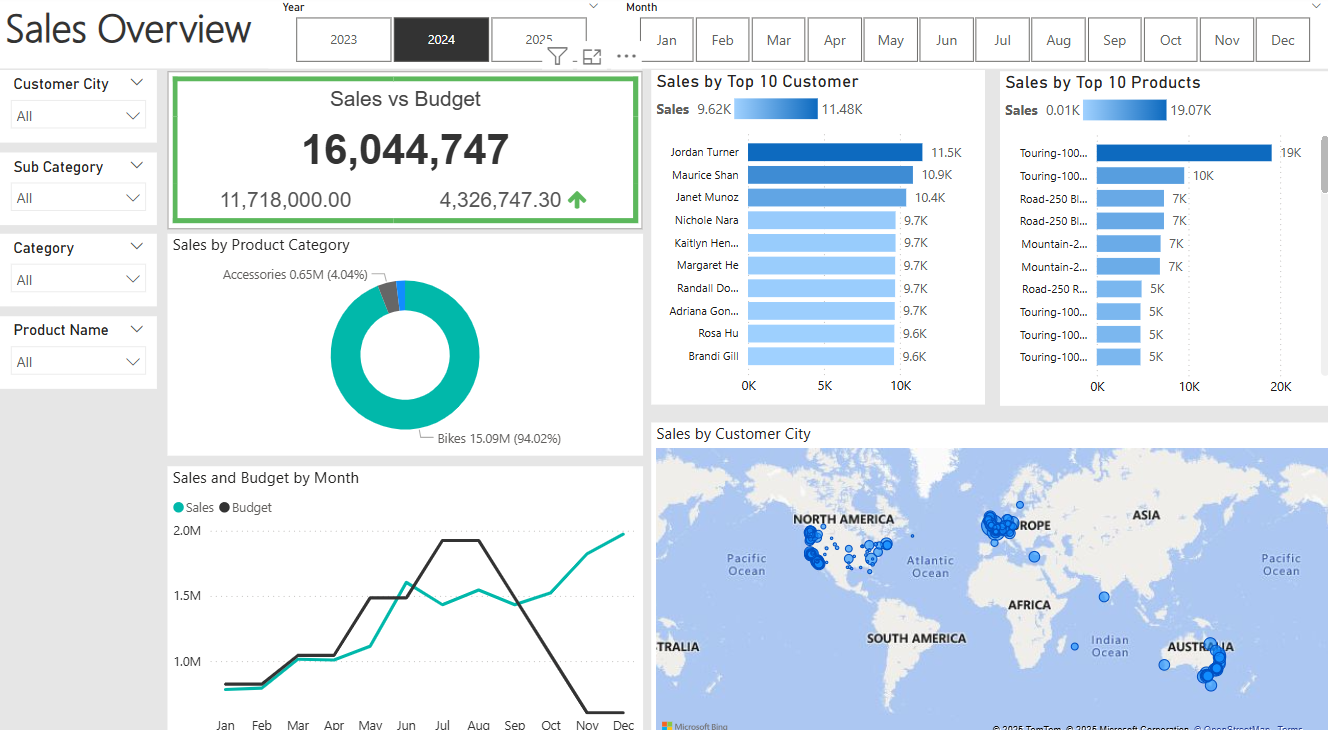

What the dashboard file says about the page in this screenshot:
{"tool":"powerbi","page":{"name":"Sales Overview","canvas":[1280,720],"ordinal":0},"visuals":[{"type":"textbox","box":[0,0,1279.7,70.7],"z":0},{"type":"slicer","fields":{"Values":["Dim_Customer.Customer City"]},"box":[0,72,150,69.5],"z":1000},{"type":"slicer","fields":{"Values":["Dim_Product.Sub Category"]},"box":[0,151,150,69.3],"z":2000},{"type":"slicer","fields":{"Values":["Dim_Product.Product Category"]},"box":[0,229,150,69.3],"z":3000},{"type":"slicer","fields":{"Values":["Dim_Calendar.Year"]},"box":[258.3,0,328.9,70.7],"z":4000},{"type":"slicer","fields":{"Values":["Dim_Calendar.MonthShort"]},"box":[587.2,0,692.5,70.7],"z":5000},{"type":"slicer","fields":{"Values":["Dim_Product.Product Name"]},"box":[0,308,150,69.3],"z":6000},{"type":"BBED0A4D4D8D44CE93CF2DAFADEE466C","fields":{"actual":["Measure Table.Sales"],"target1":["Measure Table.Budget"],"target2":["Measure Table.Sales - Budget"]},"box":[160,73,456,151],"z":7000},{"type":"donutChart","fields":{"Y":["Measure Table.Sales"],"Category":["Dim_Product.Product Category"]},"box":[160,229,456,213],"z":8000},{"type":"lineChart","fields":{"Y":["Measure Table.Sales"],"Y2":["Measure Table.Budget"],"Category":["Dim_Calendar.MonthShort"]},"box":[160.1,452,456,267],"z":8001},{"type":"barChart","title":"Sales by Top 10 Customer","fields":{"Y":["Measure Table.Sales"],"Category":["Dim_Customer.Full Name"]},"box":[625,72,320,321],"z":8002},{"type":"barChart","title":"Sales by Top 10 Products","fields":{"Y":["Measure Table.Sales"],"Category":["Dim_Product.Product Name"]},"box":[959.3,73,321,321],"z":8003},{"type":"map","fields":{"Category":["Dim_Customer.Customer City"],"Size":["Measure Table.Sales"]},"box":[624.7,409.4,655,311.5],"z":8004}]}

Visuals, with their boxes in screenshot pixels (x1, y1, x2, y2), scaled from the page's 1280x720 canvas onto the 1328x730 screenshot:
textbox: x1=0 y1=0 x2=1327 y2=72
slicer - Dim_Customer.Customer City: x1=0 y1=73 x2=156 y2=143
slicer - Dim_Product.Sub Category: x1=0 y1=153 x2=156 y2=223
slicer - Dim_Product.Product Category: x1=0 y1=232 x2=156 y2=302
slicer - Dim_Calendar.Year: x1=268 y1=0 x2=609 y2=72
slicer - Dim_Calendar.MonthShort: x1=609 y1=0 x2=1327 y2=72
slicer - Dim_Product.Product Name: x1=0 y1=312 x2=156 y2=383
BBED0A4D4D8D44CE93CF2DAFADEE466C - Measure Table.Sales x Measure Table.Budget: x1=166 y1=74 x2=639 y2=227
donutChart - Measure Table.Sales x Dim_Product.Product Category: x1=166 y1=232 x2=639 y2=448
lineChart - Measure Table.Sales x Measure Table.Budget: x1=166 y1=458 x2=639 y2=729
"Sales by Top 10 Customer" barChart: x1=648 y1=73 x2=980 y2=398
"Sales by Top 10 Products" barChart: x1=995 y1=74 x2=1327 y2=399
map - Dim_Customer.Customer City x Measure Table.Sales: x1=648 y1=415 x2=1327 y2=729
